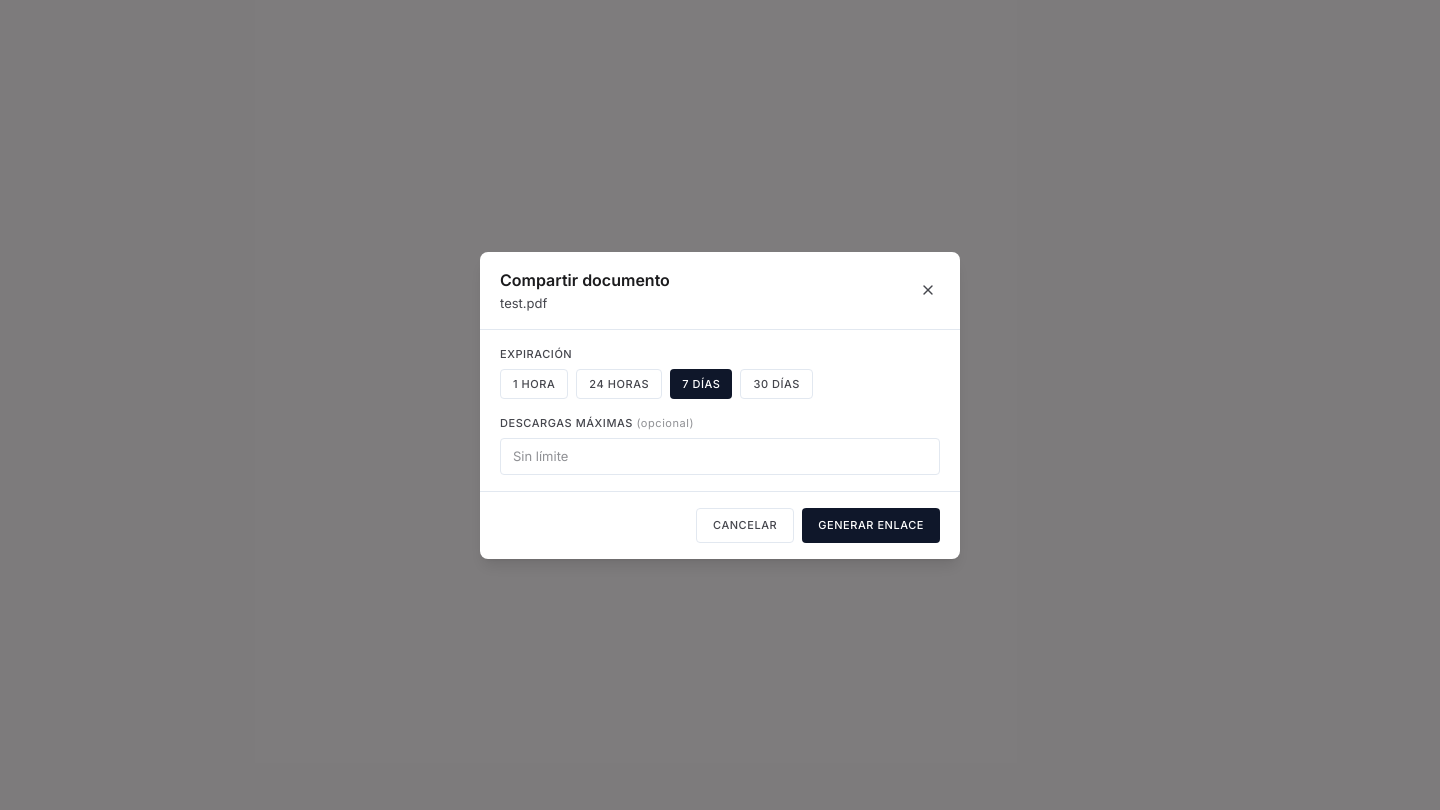
Test: ShareDialog › shows URL input and copy button on successful creation
Step 1. Click the button with test id "share-create" → [871, 525], box [802,508,940,542]
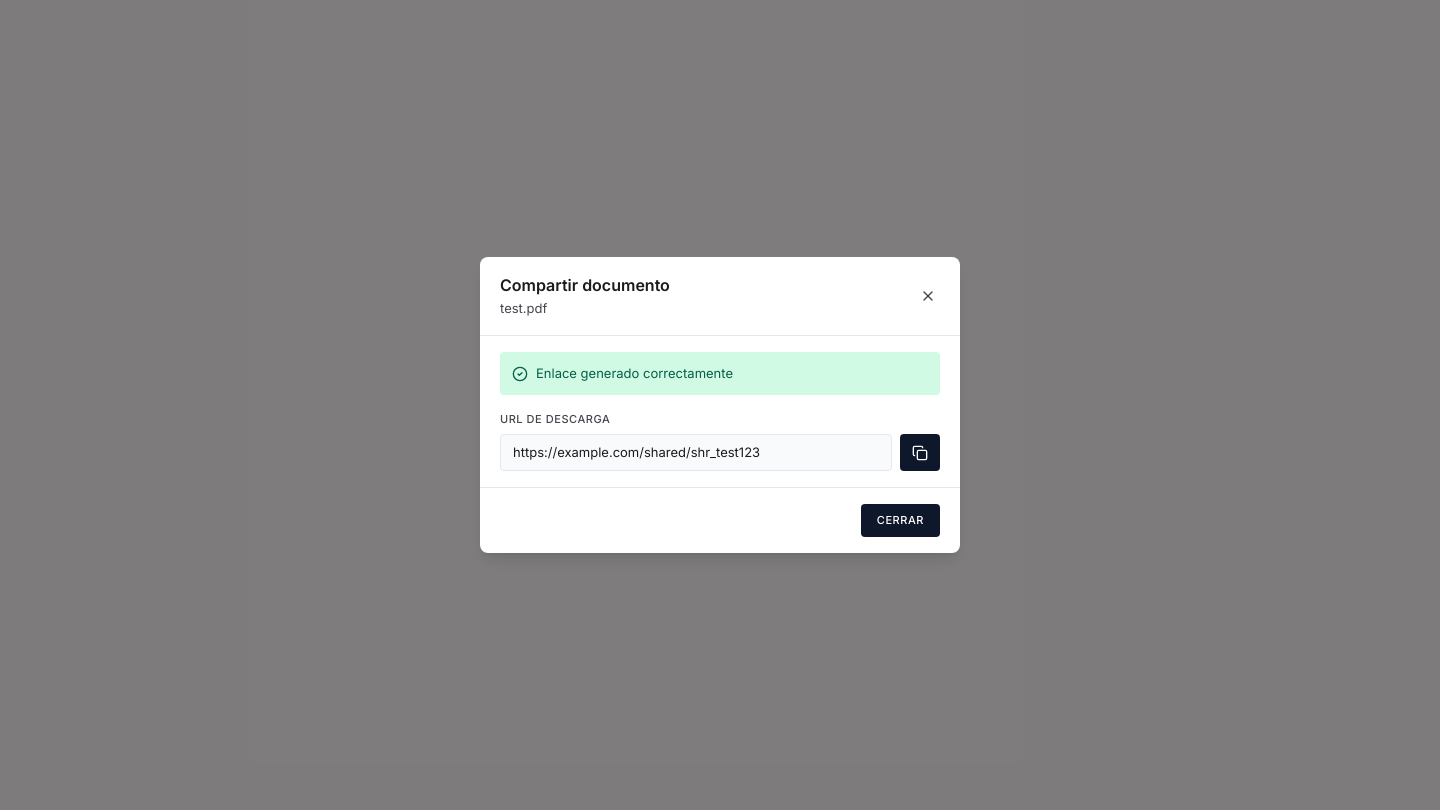
expect the field with test id "share-url-input" holds "https://example.com/shared/shr_test123": met, box [500,434,892,471]
expect the button with test id "share-copy-url" is shown: met, box [900,434,940,471]
